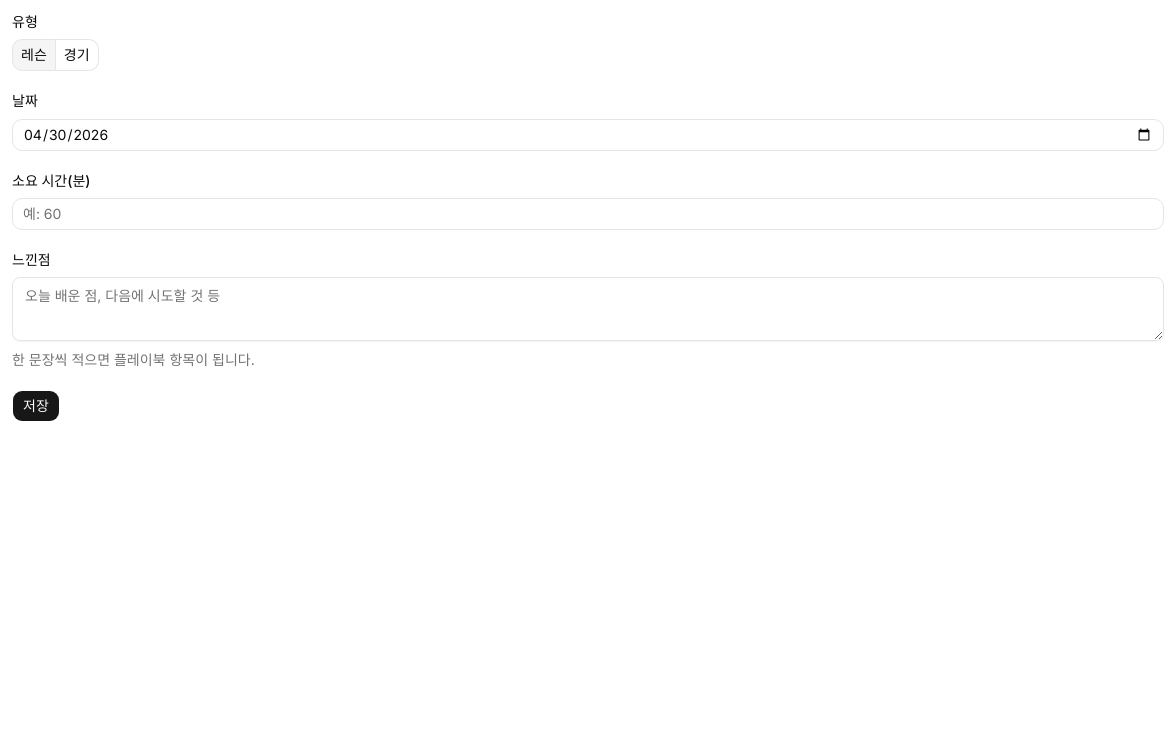
Test case: RecordForm — 경기 조건부 필드 › 경기로 전환하면 스코어/결과 필드가 나타나고, 다시 레슨으로 바꾸면 사라진다
The image size is (1176, 732).
Step 1. Click the radio button labelled "경기" → click(77, 55), box [56,39,99,71]
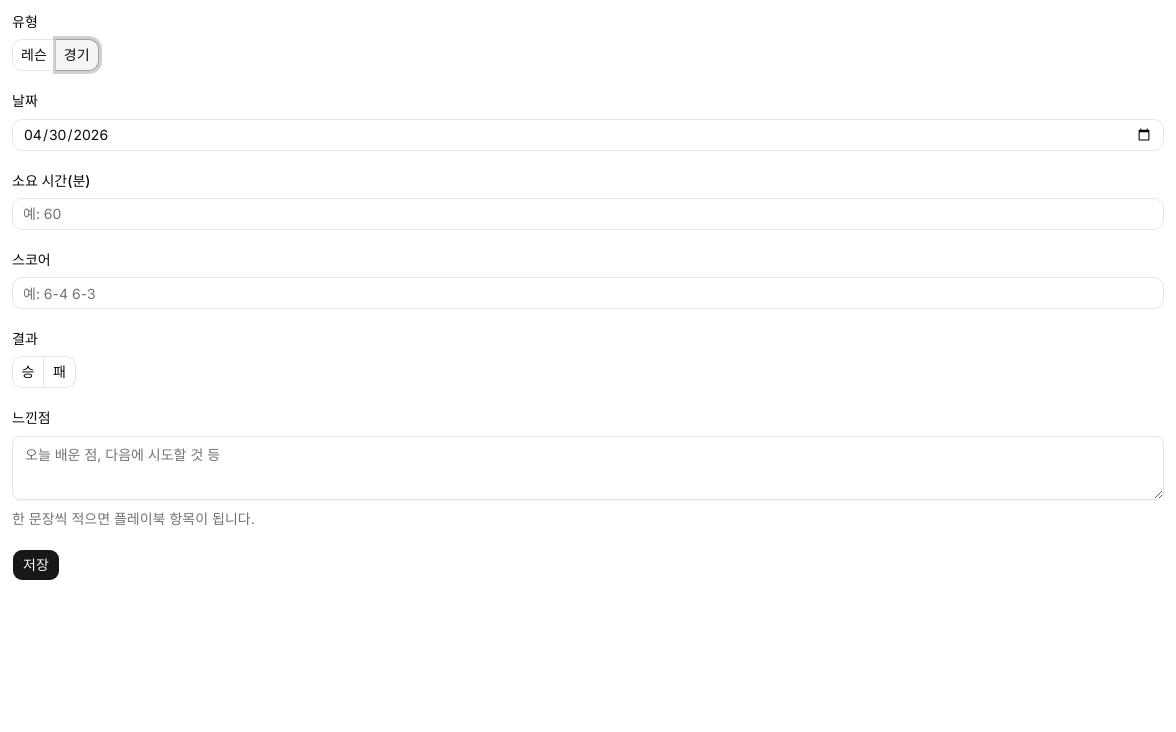
Expected: the field labelled "스코어" is shown, [12,277,1164,309]
Expected: the radio button labelled "승" is shown, [12,356,44,388]
Expected: the radio button labelled "패" is shown, [44,356,76,388]
Step 2. Click the radio button labelled "레슨" → click(34, 55), box [12,39,56,71]
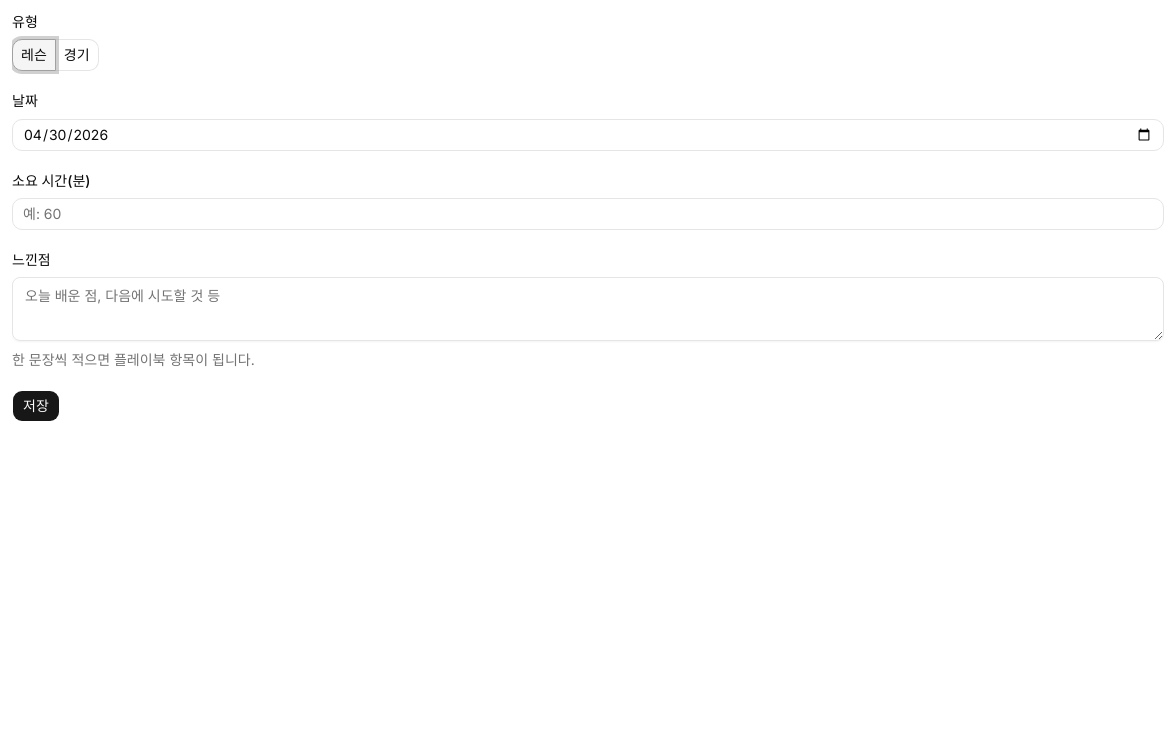
Expected: the label labelled "스코어" is gone
